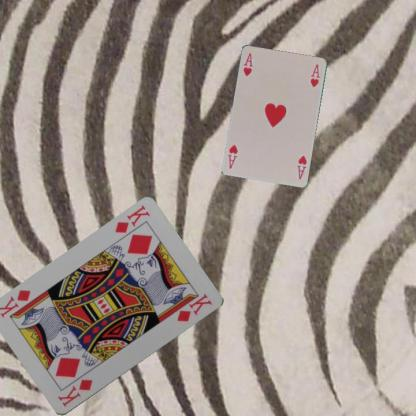Ah: (240, 51, 254, 78), (295, 153, 308, 180)
Kd: (112, 203, 151, 235), (55, 376, 93, 408)
